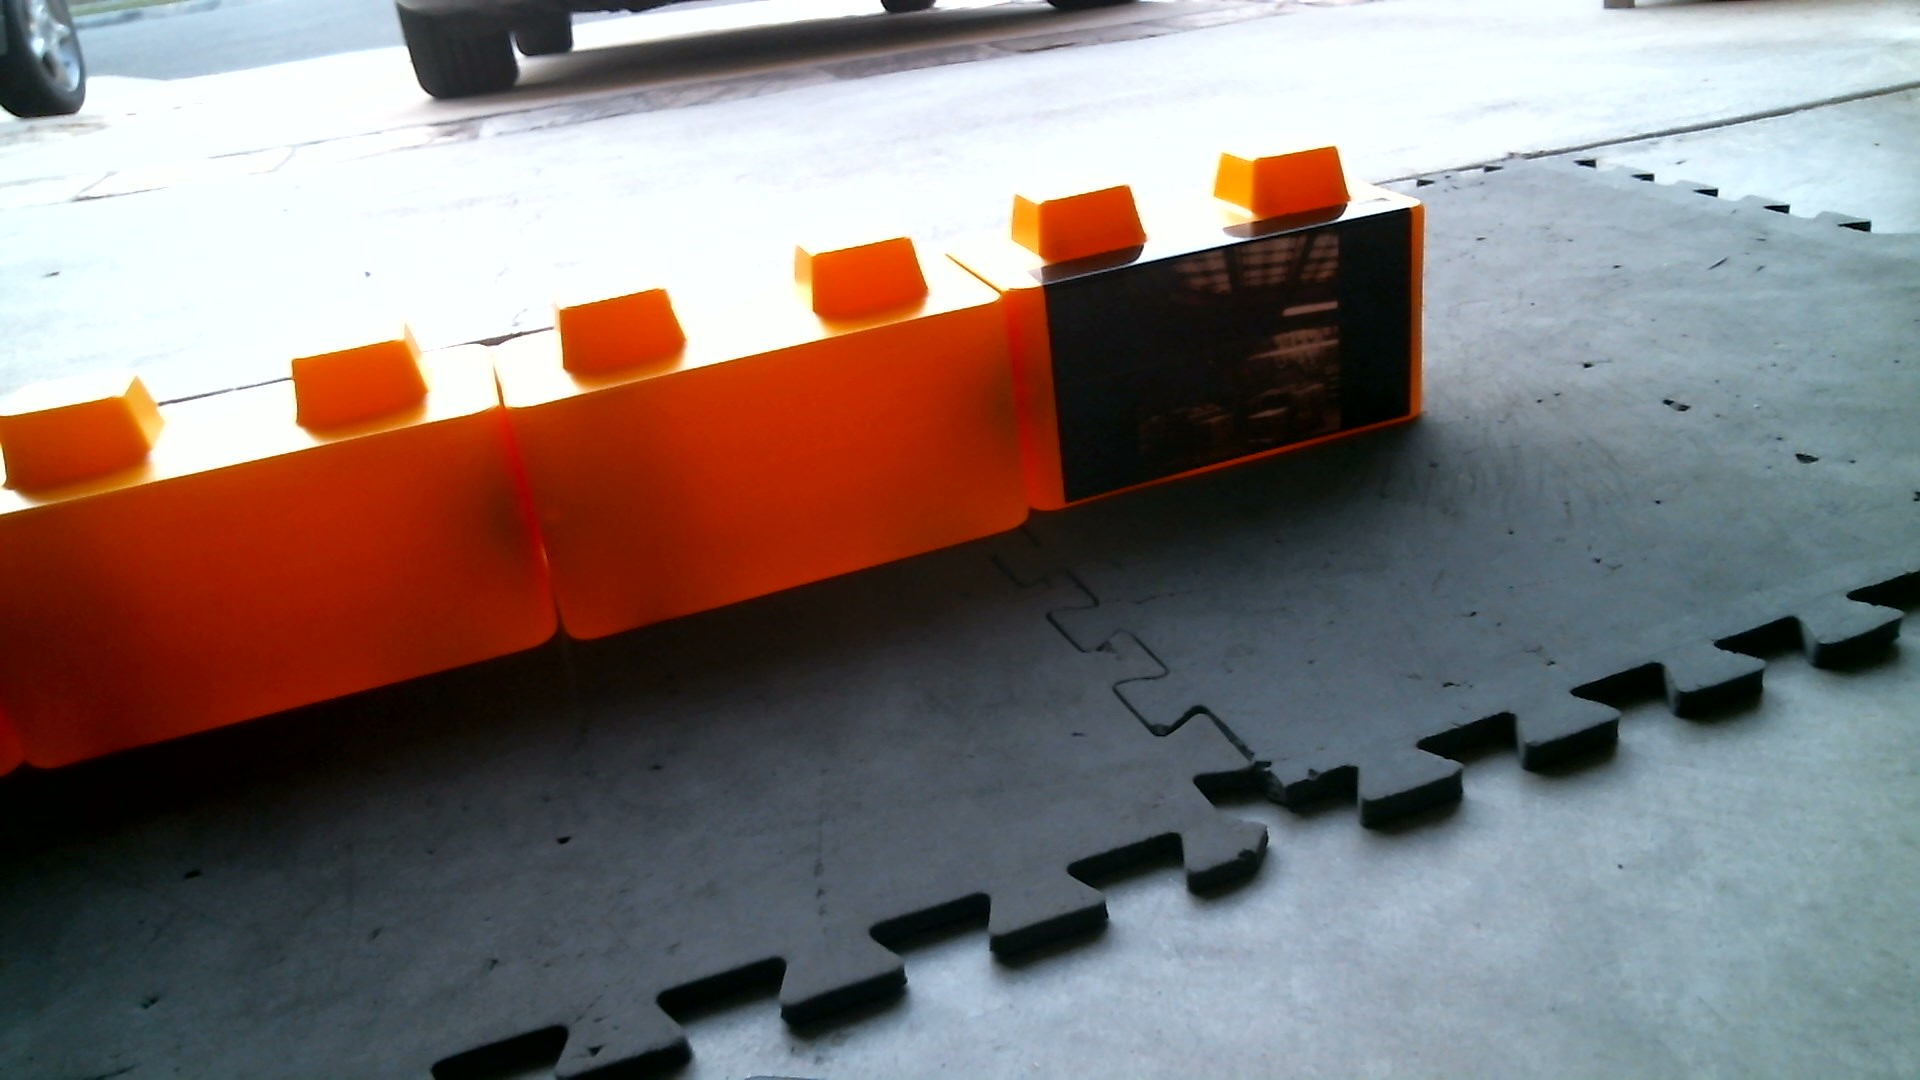right: (8, 138, 1427, 790)
